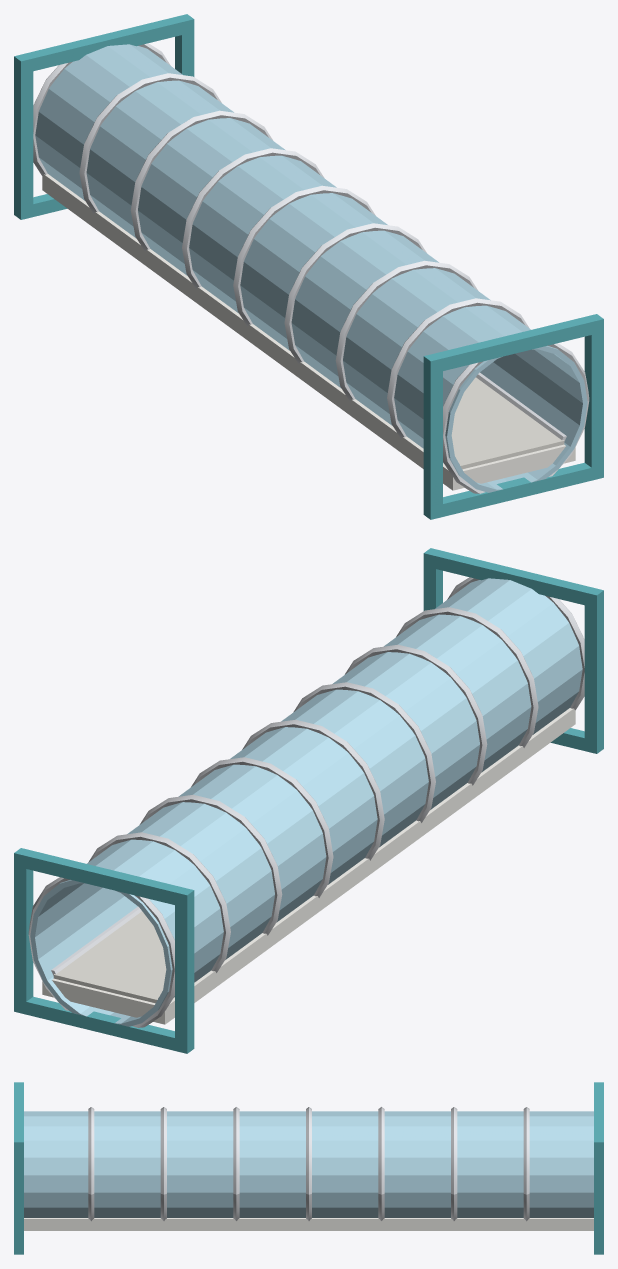
The model's file is arcology-towers-and-skyways-glazed-tube-span-b2f1c99a__23251.glb.
3 views of the same model, one above another, from view 1: azimuth 30°, elevation 25°; view 2: azimuth 150°, elevation 25°; view 3: azimuth 270°, elevation 25° (orthographic). The views are drawn at different scales.
Visible parts, largest first — view 1: glazed-tube-span; view 2: glazed-tube-span; view 3: glazed-tube-span.
Boxes of the visible parts, x1,y1,x2,y2 form: glazed-tube-span: [14, 14, 603, 519]; glazed-tube-span: [14, 548, 603, 1053]; glazed-tube-span: [14, 1082, 603, 1254].
Size of the model in its own units: 4.8 by 4.2 by 20.
